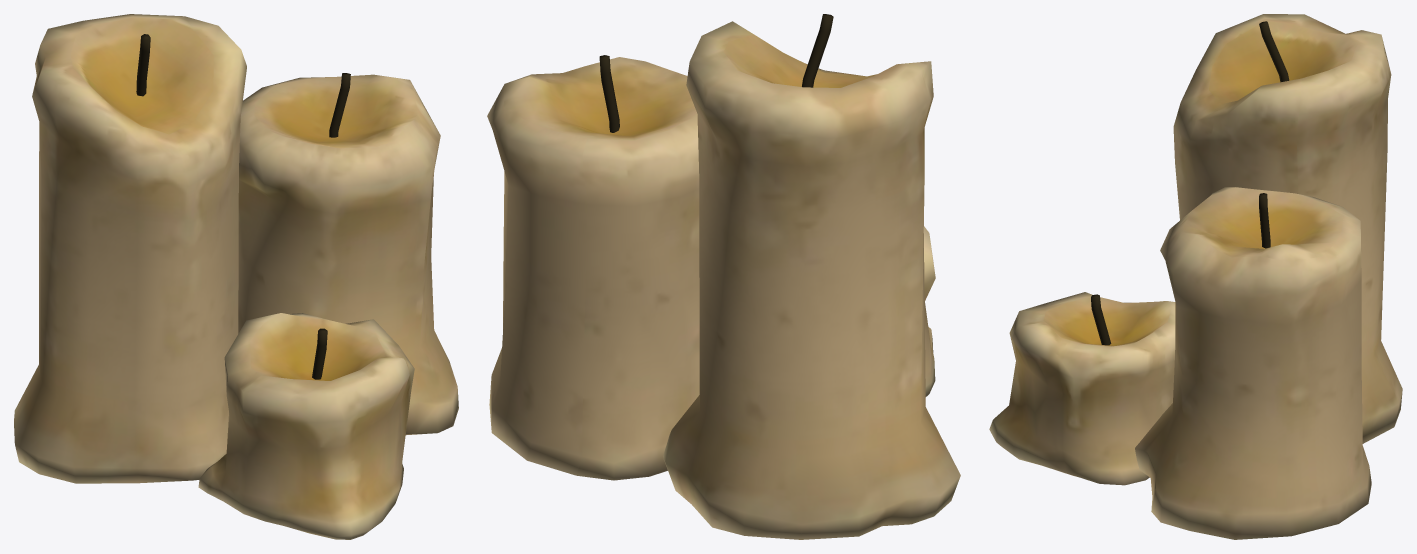
Rendered from candlegroup1_lit.glb.
The picture shows the model from 3 angles, left to right: view 1: azimuth 30°, elevation 25°; view 2: azimuth 150°, elevation 25°; view 3: azimuth 270°, elevation 25°; orthographic projection. The views are drawn at different scales.
Visible parts, largest first — view 1: candleGroup1_lit; view 2: candleGroup1_lit; view 3: candleGroup1_lit.
Boxes of the visible parts, left/top/right/bottom form: candleGroup1_lit: left=14, top=14, right=458, bottom=539; candleGroup1_lit: left=487, top=14, right=960, bottom=539; candleGroup1_lit: left=989, top=14, right=1402, bottom=539.
Size of the model in its own units: 0.2705 by 0.2677 by 0.2539.
1 material, 1 textured.
